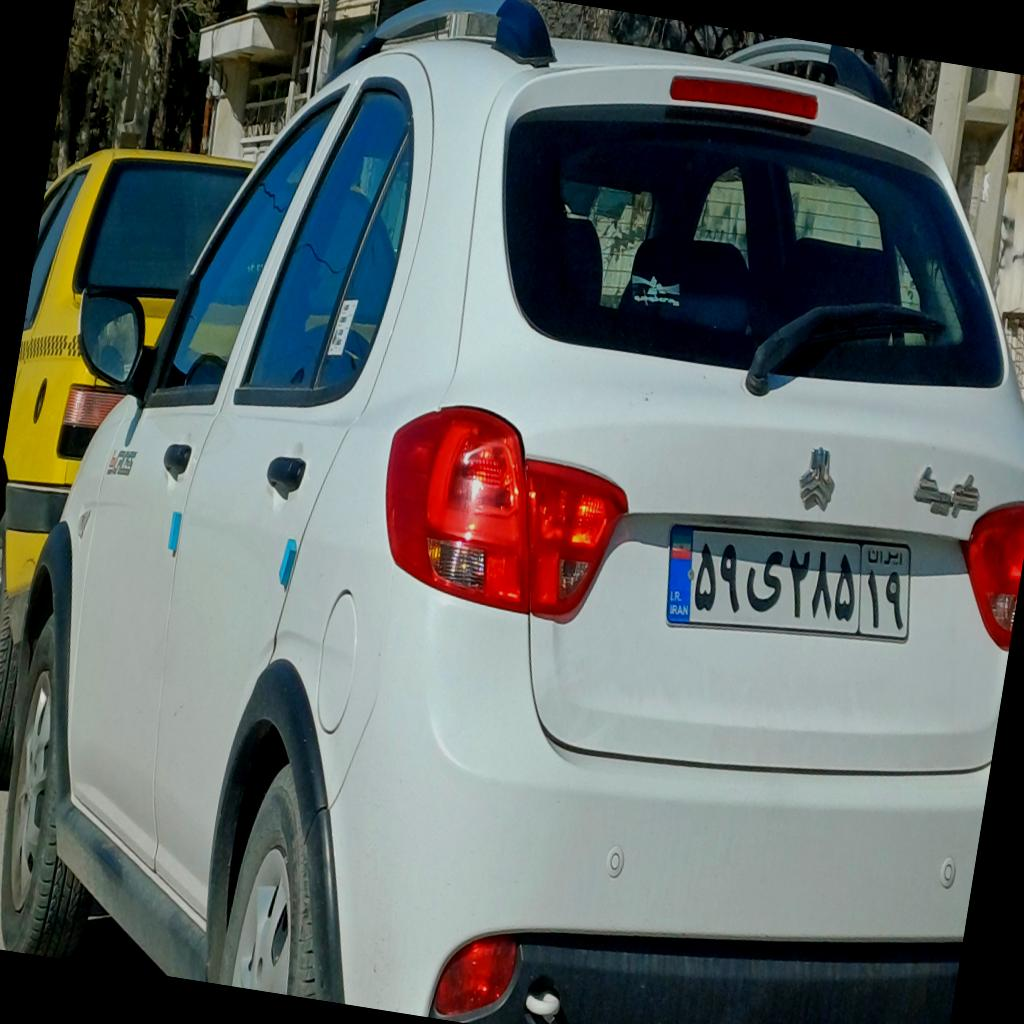Plates: (656, 508, 922, 664)
